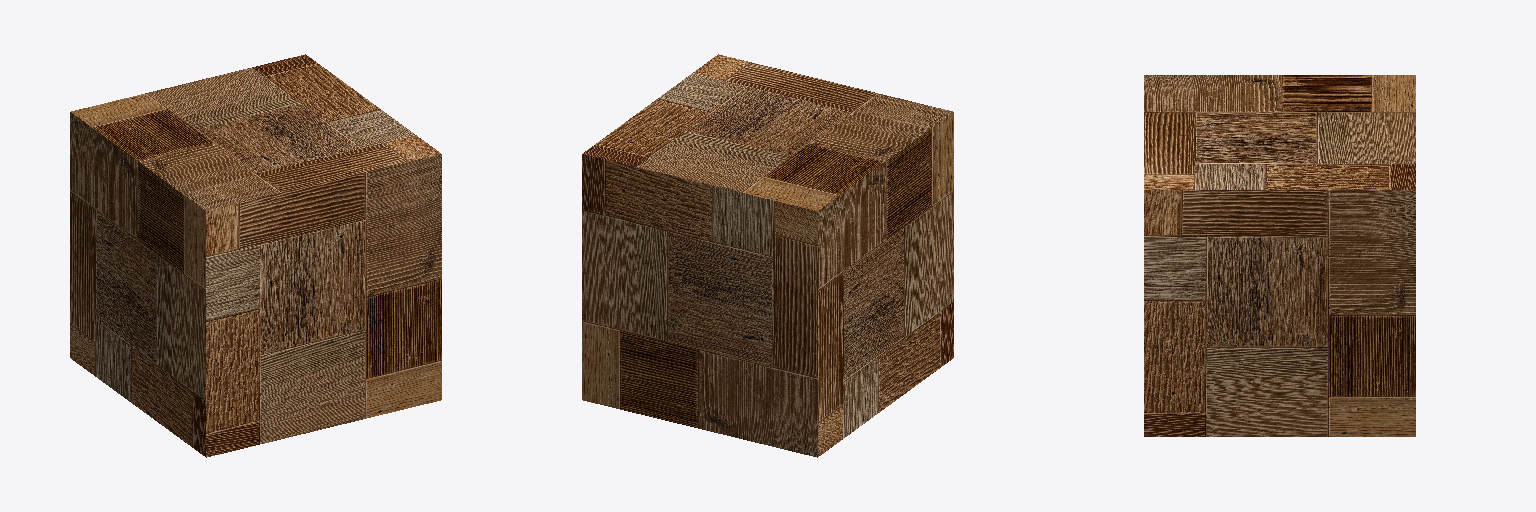
The picture shows the model from 3 angles: view 1: azimuth 30°, elevation 25°; view 2: azimuth 150°, elevation 25°; view 3: azimuth 270°, elevation 25°; orthographic projection.
Parts seen in each view (by area): view 1: Cube; view 2: Cube; view 3: Cube.
Part boxes in pixels (bbox=[...]): Cube: bbox=[70, 54, 441, 457]; Cube: bbox=[582, 54, 953, 457]; Cube: bbox=[1144, 75, 1415, 436].
Bounding box in the file's own units: 4 × 4 × 4.
Materials: 1 (1 with a texture image).